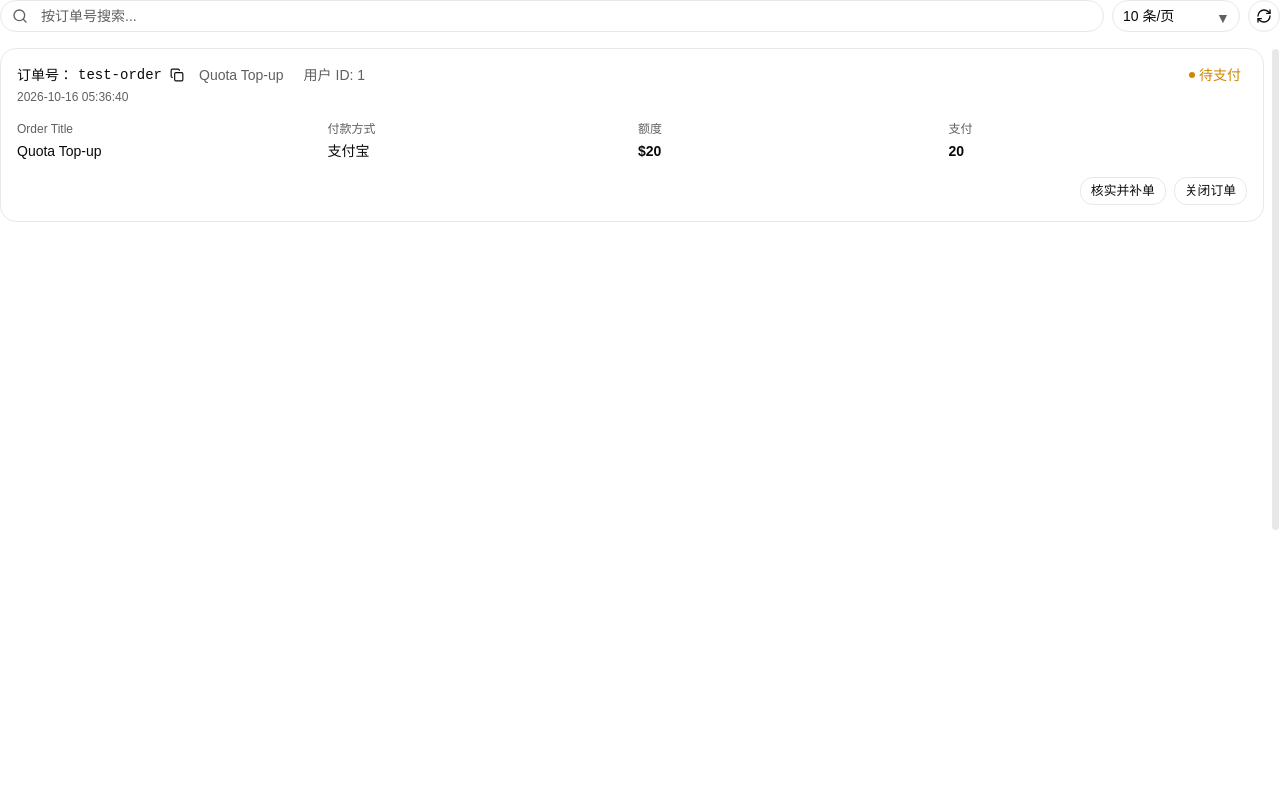
Test: shows Chinese statuses and only grants the admin settlement action after provider verification succeeds
This screenshot has width=1280, height=800.
Expected: the text "待支付" is shown, x1=1199 y1=64 x2=1241 y2=86
Step 1. Click the button "核实并补单" → (1123, 191), box x1=1080 y1=177 x2=1166 y2=205
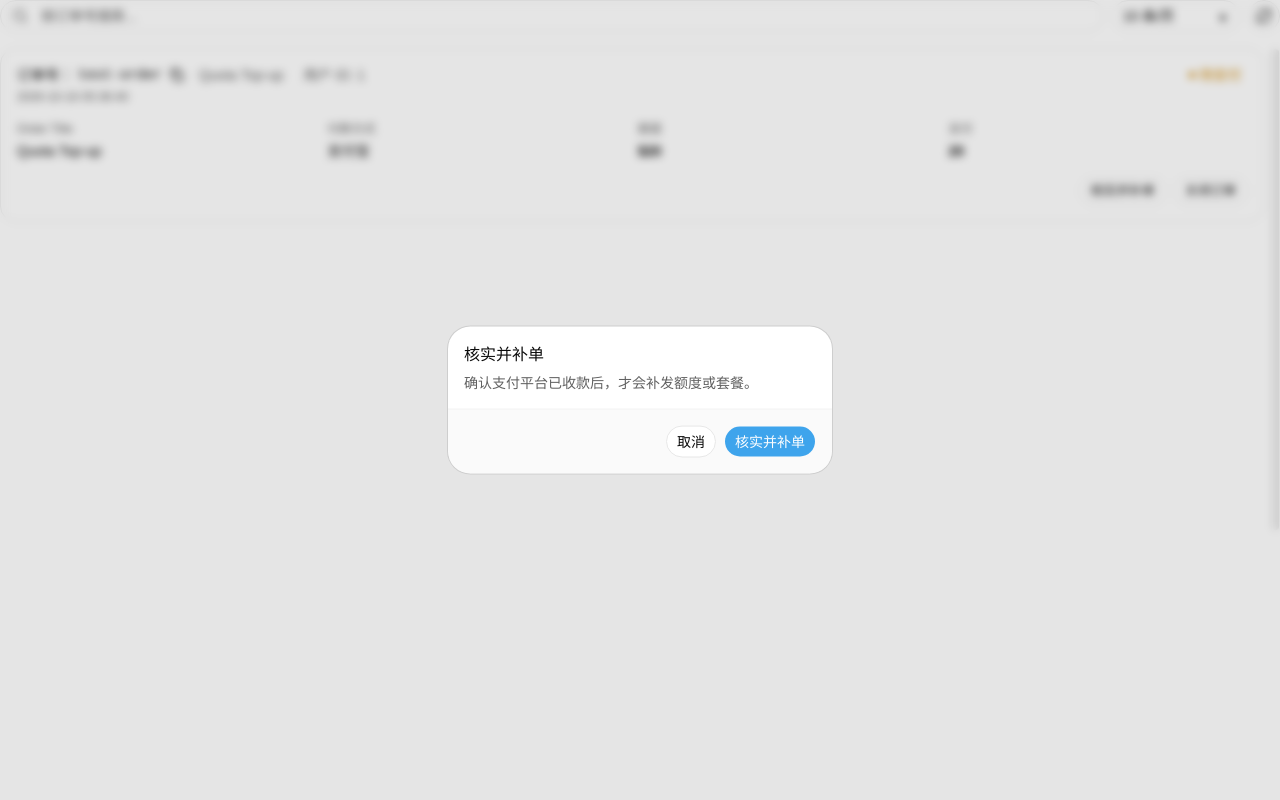
Expected: the text "确认支付平台已收款后，才会补发额度或套餐。" is shown, x1=464 y1=372 x2=758 y2=392
Step 2. Click the button "核实并补单" → (770, 442), box x1=724 y1=426 x2=816 y2=458
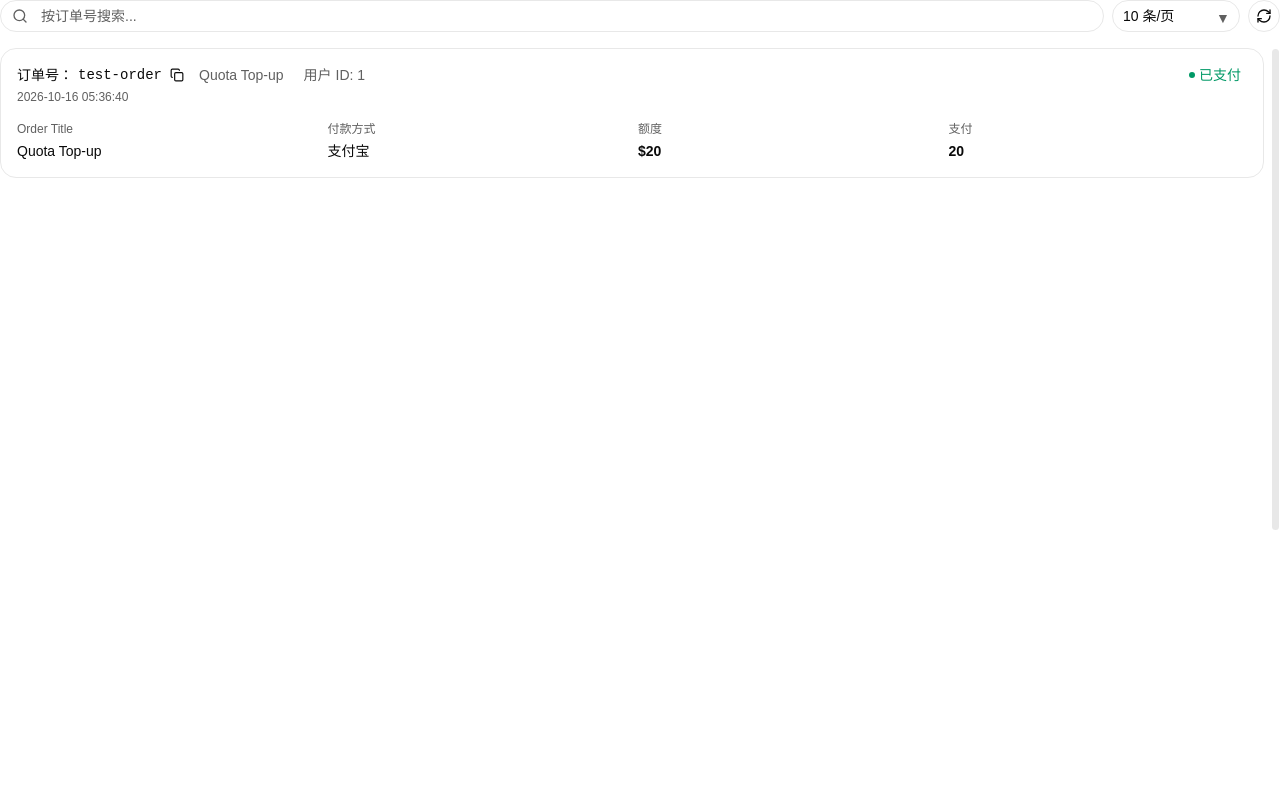
Expected: the text "已支付" is shown, x1=1199 y1=64 x2=1241 y2=86
